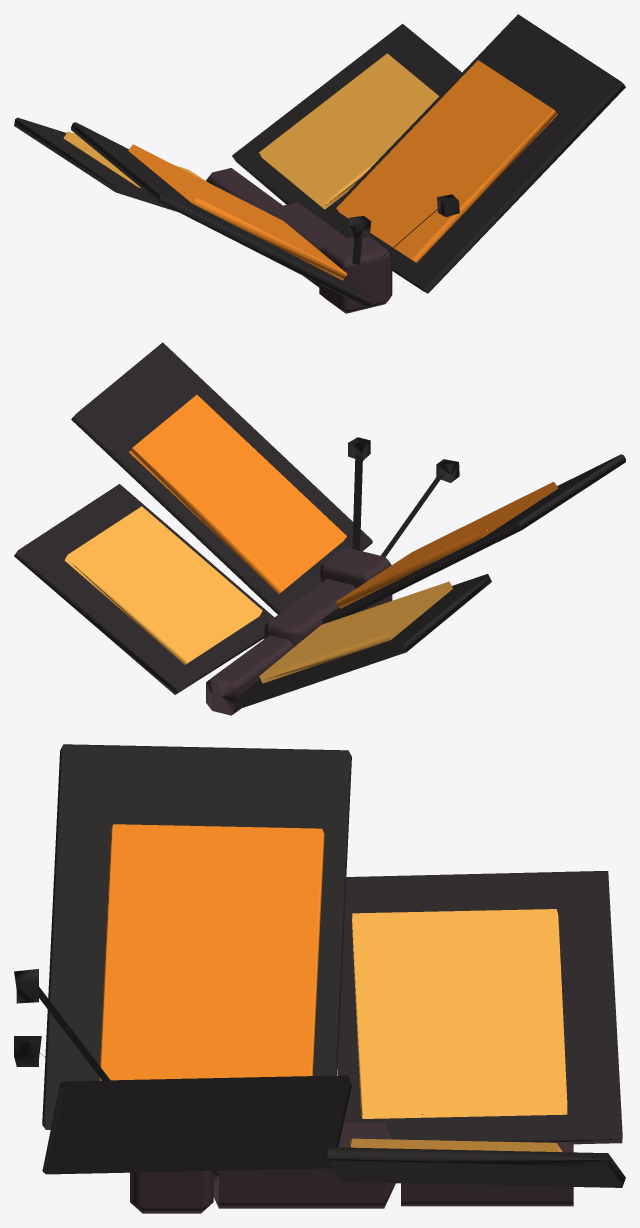
File: butterfly-poly-by-google_2ZwYwkTVnfG-blocky_lod2.glb
3 views of the same model, one above another, from view 1: azimuth 30°, elevation 25°; view 2: azimuth 150°, elevation 25°; view 3: azimuth 270°, elevation 25° (orthographic). The views are drawn at different scales.
Parts seen in each view (by area): view 1: butterfly; view 2: butterfly; view 3: butterfly.
Boxes of the visible parts, left/top/right/bottom form: butterfly: left=14, top=14, right=625, bottom=313; butterfly: left=14, top=342, right=625, bottom=715; butterfly: left=14, top=744, right=625, bottom=1213.
Bounding box in the file's own units: 1.35 × 0.5273 × 1.02.
Materials: 1 (1 with a texture image).
